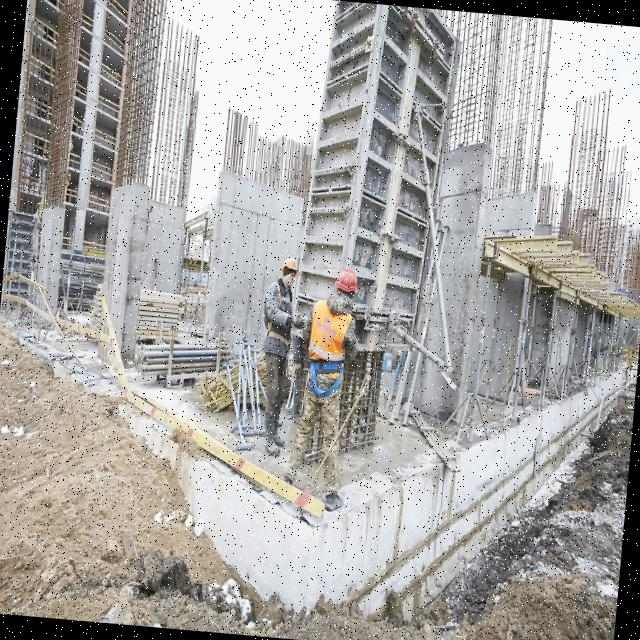Helmet: (334, 267, 361, 296), (282, 257, 301, 275)
Jacket: (307, 295, 350, 380)
NoJacket: (265, 280, 295, 347)
